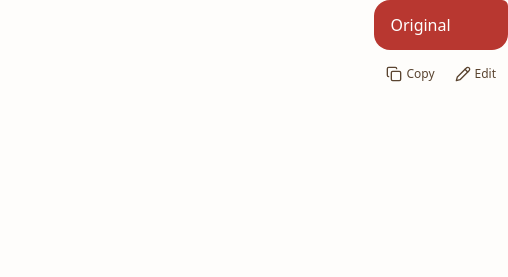
identifies unavailable files and asks before regenerating without them
Later steps or results of the test are not shown.
Click the button with aria-label "Edit message" at (475, 74), box [446,52,504,96]
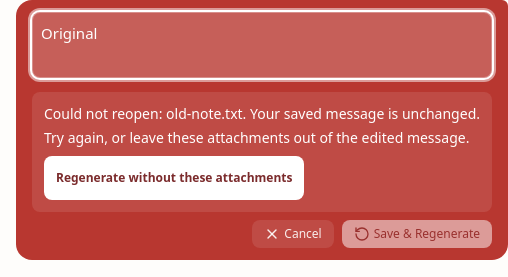
Replace the text in the text box with "Updated" at (262, 45), box [32,12,492,78]
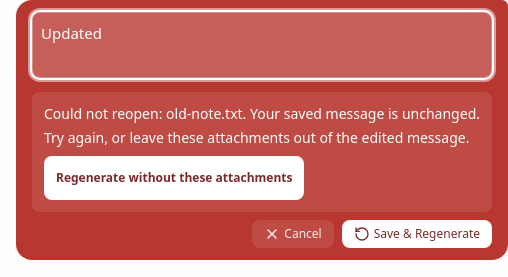
Now the message shows "old-note.txt", box [166,104,243,123]
